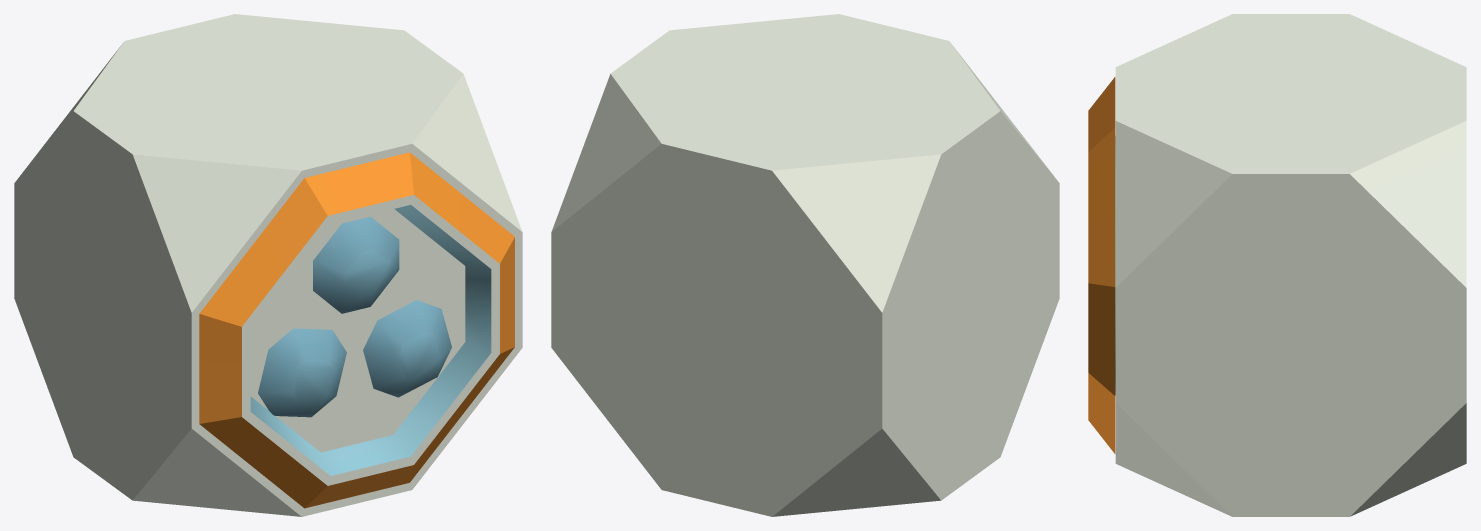
File: Shield2.fbx
3 renders of one model, left to right at view 1: azimuth 30°, elevation 25°; view 2: azimuth 150°, elevation 25°; view 3: azimuth 270°, elevation 25°, orthographic.
Visible parts, largest first — view 1: Shield 1x1.002; view 2: Shield 1x1.002; view 3: Shield 1x1.002.
Part boxes in pixels (x1=…): Shield 1x1.002: x1=14, y1=14, x2=522, y2=516; Shield 1x1.002: x1=551, y1=14, x2=1059, y2=516; Shield 1x1.002: x1=1088, y1=14, x2=1466, y2=516.
Bounding box in the file's own units: 100 × 100 × 100.
